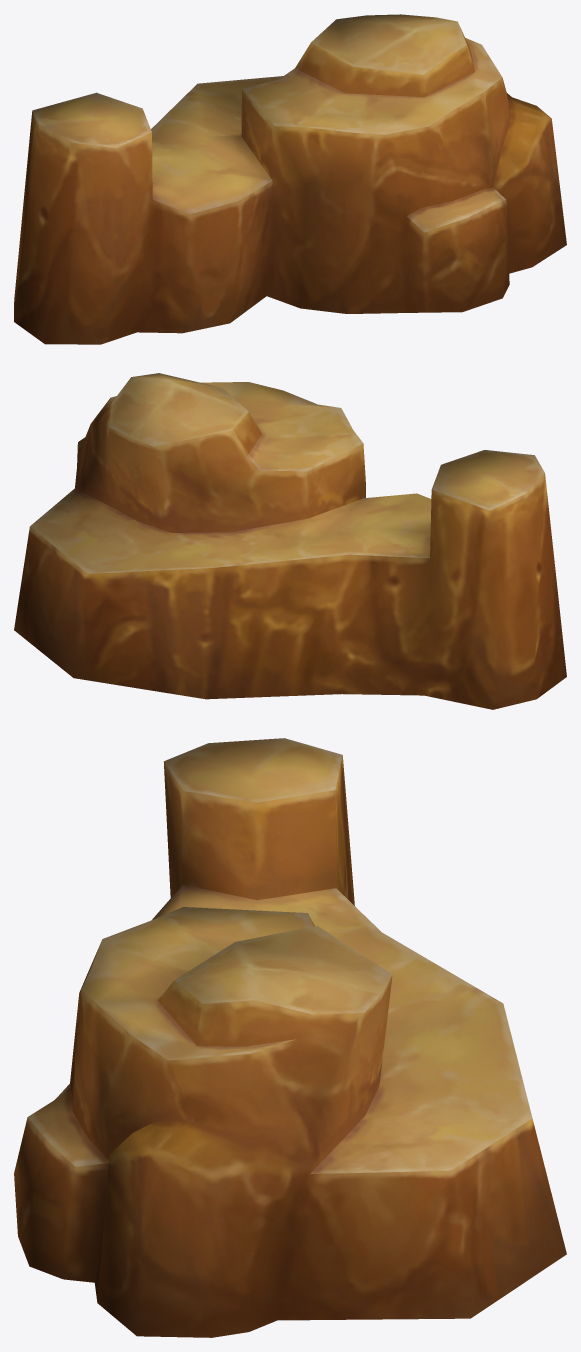
The model's file is Stage_ShaMo_ShanShi02.FBX.
3 views of the same model, one above another, from view 1: azimuth 30°, elevation 25°; view 2: azimuth 150°, elevation 25°; view 3: azimuth 270°, elevation 25° (orthographic). The views are drawn at different scales.
Parts seen in each view (by area): view 1: Stage_ShaMo_ShanShi02; view 2: Stage_ShaMo_ShanShi02; view 3: Stage_ShaMo_ShanShi02.
Boxes of the visible parts, left/top/right/bottom form: Stage_ShaMo_ShanShi02: left=14, top=14, right=566, bottom=344; Stage_ShaMo_ShanShi02: left=14, top=373, right=566, bottom=709; Stage_ShaMo_ShanShi02: left=14, top=738, right=566, bottom=1337.
Bounding box in the file's own units: 1591 × 653 × 1104.
